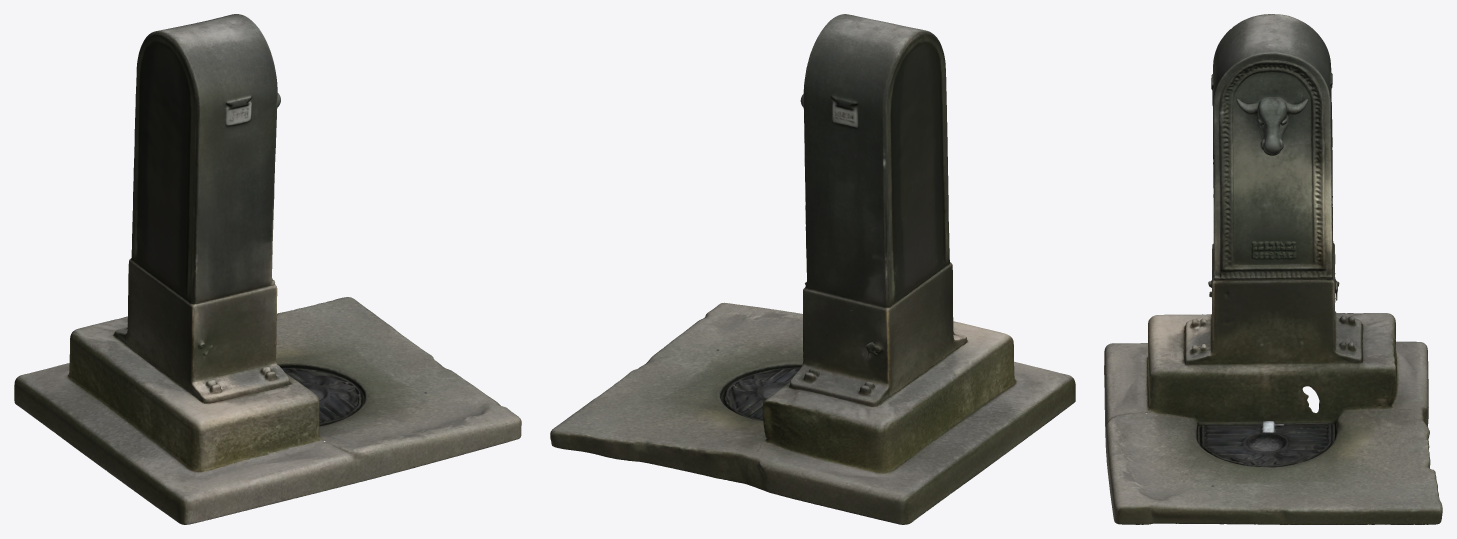
File: toret.glb
3 renders of one model, left to right at view 1: azimuth 30°, elevation 25°; view 2: azimuth 150°, elevation 25°; view 3: azimuth 270°, elevation 25°, orthographic. The views are drawn at different scales.
Parts seen in each view (by area): view 1: world; view 2: world; view 3: world.
Boxes of the visible parts, box(x1,y1,x2,y2) form: world: box(14, 14, 521, 524); world: box(550, 14, 1075, 524); world: box(1104, 14, 1442, 524).
Size of the model in its own units: 0.8965 by 1 by 0.7971.
Materials: 1 (1 with a texture image).
